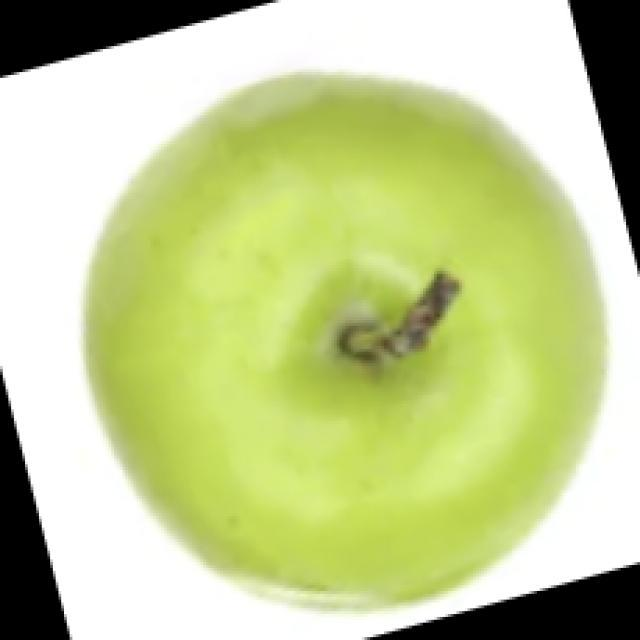Fresh Apple: (106, 73, 596, 610)
